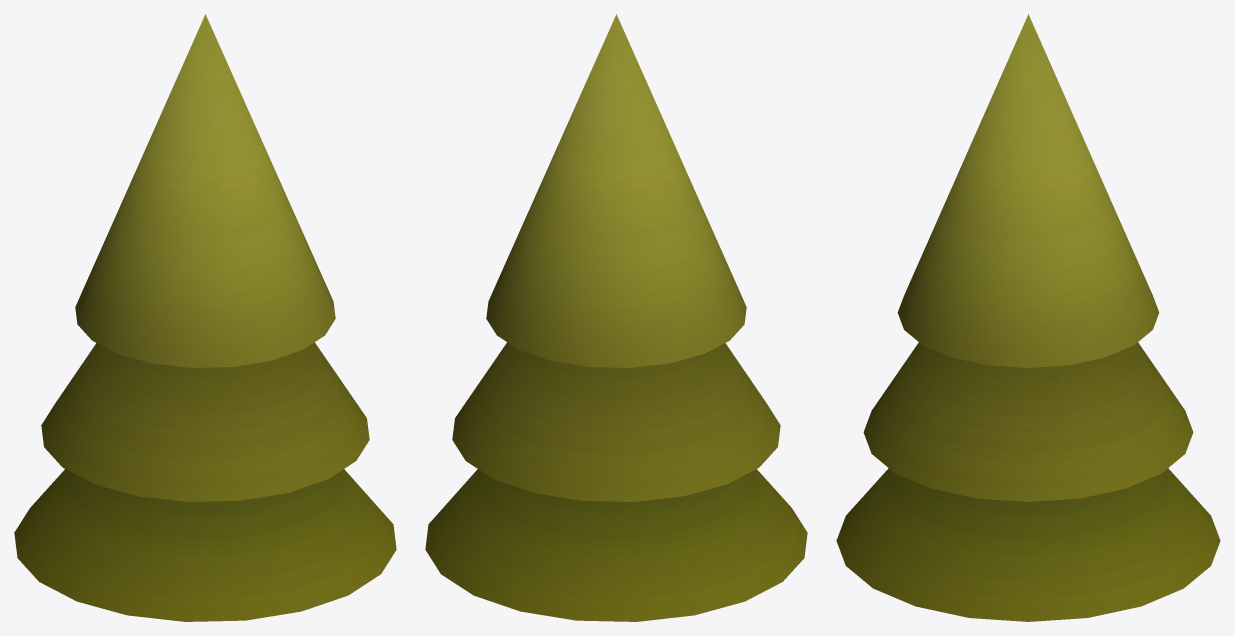
The model's file is Map_Tree_City_B.fbx.
3 views of the same model, side by side, from view 1: azimuth 30°, elevation 25°; view 2: azimuth 150°, elevation 25°; view 3: azimuth 270°, elevation 25° (orthographic).
Visible parts, largest first — view 1: Map_Tree_City_B; view 2: Map_Tree_City_B; view 3: Map_Tree_City_B.
Part boxes in pixels (x1,y1,x2,y2): Map_Tree_City_B: (14,14,396,621); Map_Tree_City_B: (425,14,807,621); Map_Tree_City_B: (836,14,1220,621).
Bounding box in the file's own units: 0.4979 × 0.7535 × 0.4979.
